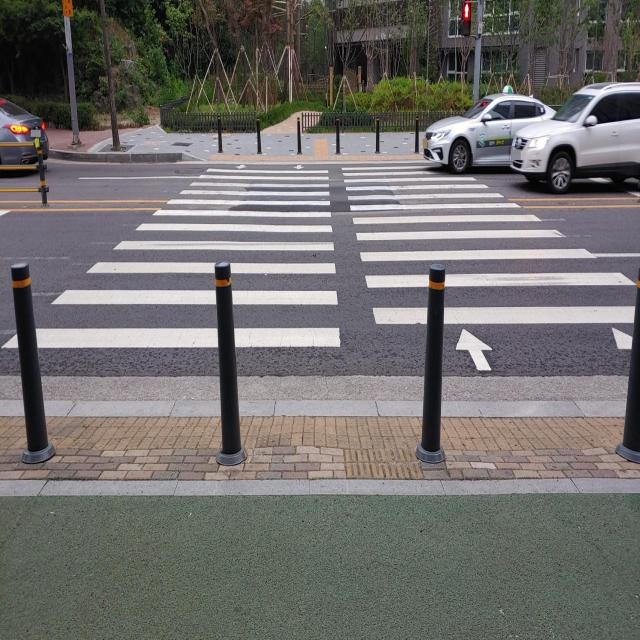빨간불: (460, 2, 472, 37)
횡단보도: (0, 164, 640, 377)
